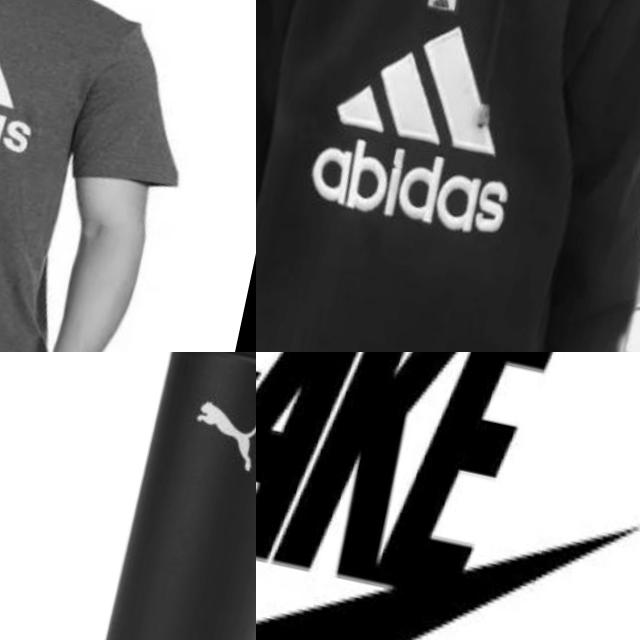ADIDAS_fake: (292, 116, 533, 256)
ADIDAS_original: (0, 0, 65, 165)
NIKE_fake: (256, 352, 640, 640)
PUMA_original: (159, 367, 256, 507)
